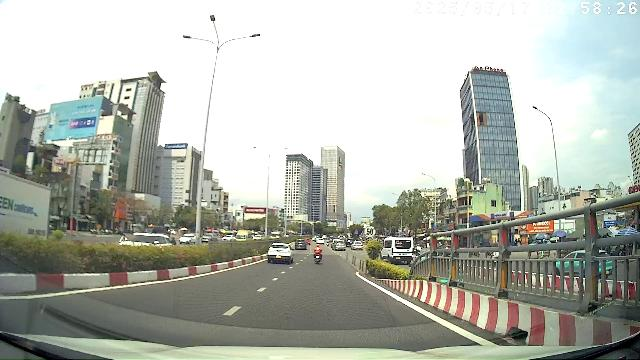134-het-han-che-toc-do-toi-da: (363, 224, 377, 238)
